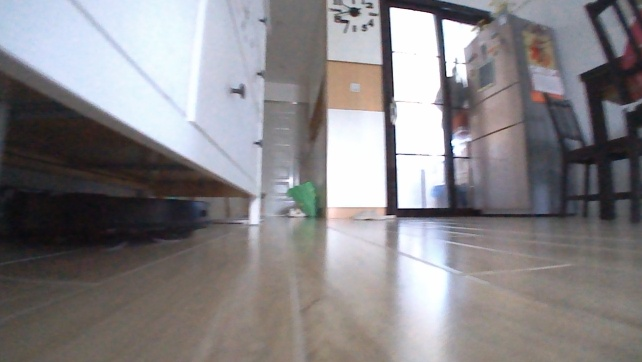dining_table: (539, 0, 641, 226)
door_anno: (259, 99, 311, 224)
refrigerator: (465, 12, 577, 216)
slipper: (348, 207, 398, 222)
